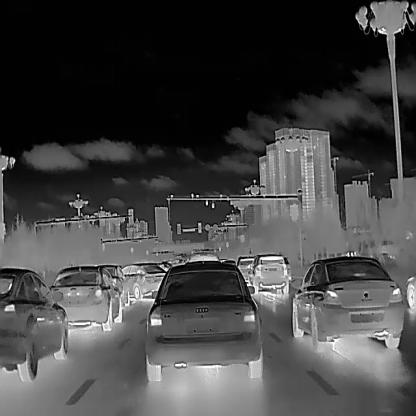car: (144, 259, 263, 380), (290, 254, 404, 350), (0, 265, 68, 380), (46, 266, 122, 330), (118, 264, 167, 300), (249, 254, 289, 294), (96, 262, 129, 309), (235, 255, 255, 283)
